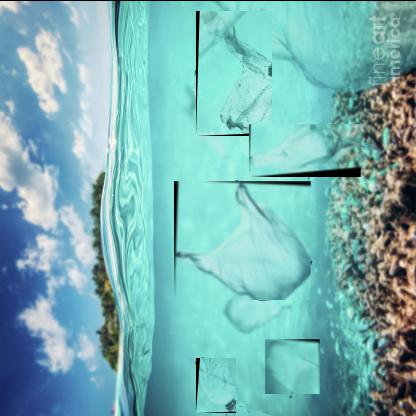bottle: (196, 9, 273, 135), (196, 356, 237, 412)
plastic-bag: (174, 179, 312, 299), (249, 122, 362, 176), (265, 337, 321, 393)
